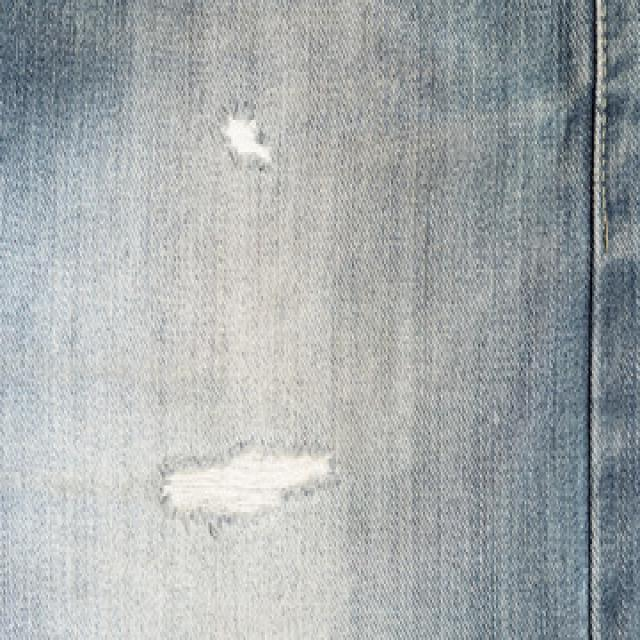Hole: (162, 451, 333, 516), (221, 113, 272, 168)
Line: (585, 0, 601, 640)
